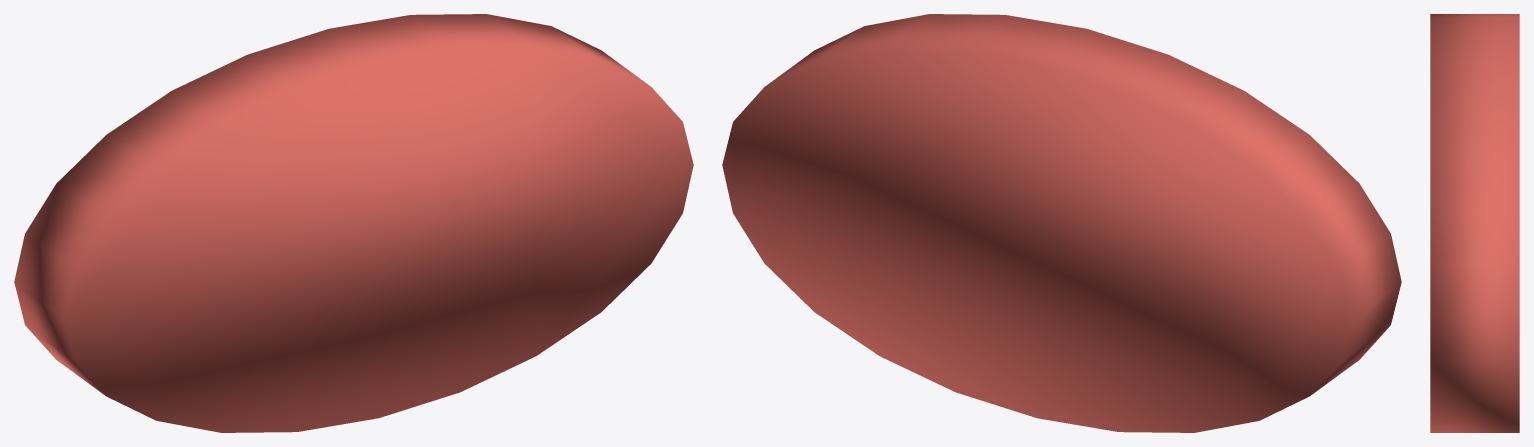
Rendered from shape-oval-red.glb.
The picture shows the model from 3 angles, left to right: view 1: azimuth 30°, elevation 25°; view 2: azimuth 150°, elevation 25°; view 3: azimuth 270°, elevation 25°; orthographic projection. The views are drawn at different scales.
Visible parts, largest first — view 1: solid oval; view 2: solid oval; view 3: solid oval.
Part boxes in pixels (bbox=[...]): solid oval: bbox=[14, 14, 693, 432]; solid oval: bbox=[722, 14, 1401, 432]; solid oval: bbox=[1430, 14, 1519, 432].
Size of the model in its own units: 1.82 by 0.975 by 0.25.
